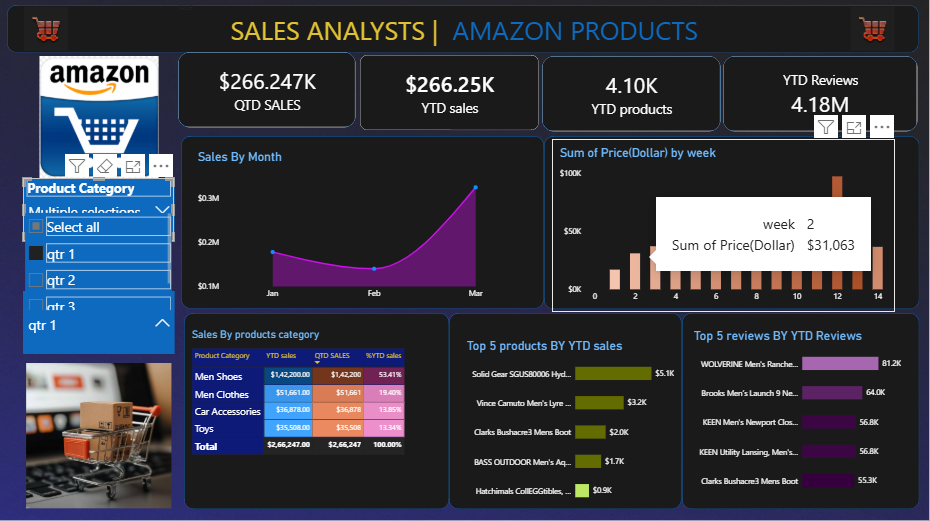

What the dashboard file says about the page in this screenshot:
{"tool":"powerbi","page":{"name":"Page 1","canvas":[1920,1080],"ordinal":0},"visuals":[{"type":"shape","box":[382.5,647.5,547.5,405],"z":0},{"type":"shape","box":[17.5,12.5,1882.2,98.3],"z":1000},{"type":"textbox","box":[369.2,8.6,1181.5,105.8],"z":2000},{"type":"cardVisual","fields":{"Data":["Amazon_Data.YTD sales"]},"box":[745,115,369.4,155.5],"z":3000},{"type":"cardVisual","fields":{"Data":["Amazon_Data.QTD SALES"]},"box":[370,110,367.2,155.5],"z":4000},{"type":"cardVisual","fields":{"Data":["Amazon_Data.YTD products"]},"box":[1120,117.5,369,155.5],"z":5000},{"type":"cardVisual","fields":{"Data":["Amazon_Data.YTD Reviews"]},"box":[1495,117.5,401.8,155.5],"z":6000},{"type":"shape","box":[375,282.5,749.5,356.4],"z":7000},{"type":"areaChart","title":"Sales By Month","fields":{"Category":["date table.month name"],"Y":["Sum(Amazon_Data.Price(Dollar))"]},"box":[395,297.5,706.3,341.3],"z":8000},{"type":"shape","box":[1125,282.5,775,357.5],"z":9000},{"type":"columnChart","fields":{"Category":["date table.week"],"Y":["Sum(Amazon_Data.Price(Dollar))"]},"box":[1142.5,290,706.3,356.4],"z":10000},{"type":"pivotTable","title":"Sales By products category","fields":{"Rows":["Amazon_Data.Product Category"],"Values":["Amazon_Data.YTD sales","Amazon_Data.QTD SALES","Divide(Amazon_Data.YTD sales, ScopedEval(Amazon_Data.YTD sales, []))"]},"box":[382.3,667.4,555,377.5],"z":11000},{"type":"shape","box":[930,647.5,480,405],"z":12000},{"type":"shape","box":[1410,647.5,490,405],"z":13000},{"type":"clusteredBarChart","title":"Top 5 products BY YTD sales","fields":{"Category":["Amazon_Data.Product Description"],"Y":["Amazon_Data.YTD sales"]},"box":[950.4,686.9,460,365],"z":14000},{"type":"clusteredBarChart","title":"Top 5 reviews BY YTD Reviews","fields":{"Category":["Amazon_Data.Product Description"],"Y":["Amazon_Data.YTD Reviews"]},"box":[1417.5,667.5,460,365],"z":15000},{"type":"slicer","fields":{"Values":["Amazon_Data.Product Category"]},"box":[50,475,312.5,130],"z":16000},{"type":"slicer","fields":{"Values":["date table.otr"]},"box":[50,602.5,312.5,130],"z":17000},{"type":"image","box":[50,122.5,312.5,345],"z":18000},{"type":"image","box":[0,752.5,412.5,300],"z":19000},{"type":"image","box":[49.7,17.3,95,90.7],"z":20000},{"type":"image","box":[1730.2,17.3,146.9,90.7],"z":21000}]}

Visuals, with their boxes in screenshot pixels (x1, y1, x2, y2), scaled from the page's 1920x1080 canvas onto the 930x521 screenshot:
shape: 185 312 450 508
shape: 8 6 920 53
textbox: 179 4 751 55
cardVisual - Amazon_Data.YTD sales: 361 55 540 130
cardVisual - Amazon_Data.QTD SALES: 179 53 357 128
cardVisual - Amazon_Data.YTD products: 542 57 721 132
cardVisual - Amazon_Data.YTD Reviews: 724 57 919 132
shape: 182 136 545 308
"Sales By Month" areaChart: 191 144 533 308
shape: 545 136 920 309
columnChart - date table.week x Sum(Amazon_Data.Price(Dollar)): 553 140 896 312
"Sales By products category" pivotTable: 185 322 454 504
shape: 450 312 683 508
shape: 683 312 920 508
"Top 5 products BY YTD sales" clusteredBarChart: 460 331 683 507
"Top 5 reviews BY YTD Reviews" clusteredBarChart: 687 322 909 498
slicer - Amazon_Data.Product Category: 24 229 176 292
slicer - date table.otr: 24 291 176 353
image: 24 59 176 226
image: 0 363 200 508
image: 24 8 70 52
image: 838 8 909 52
